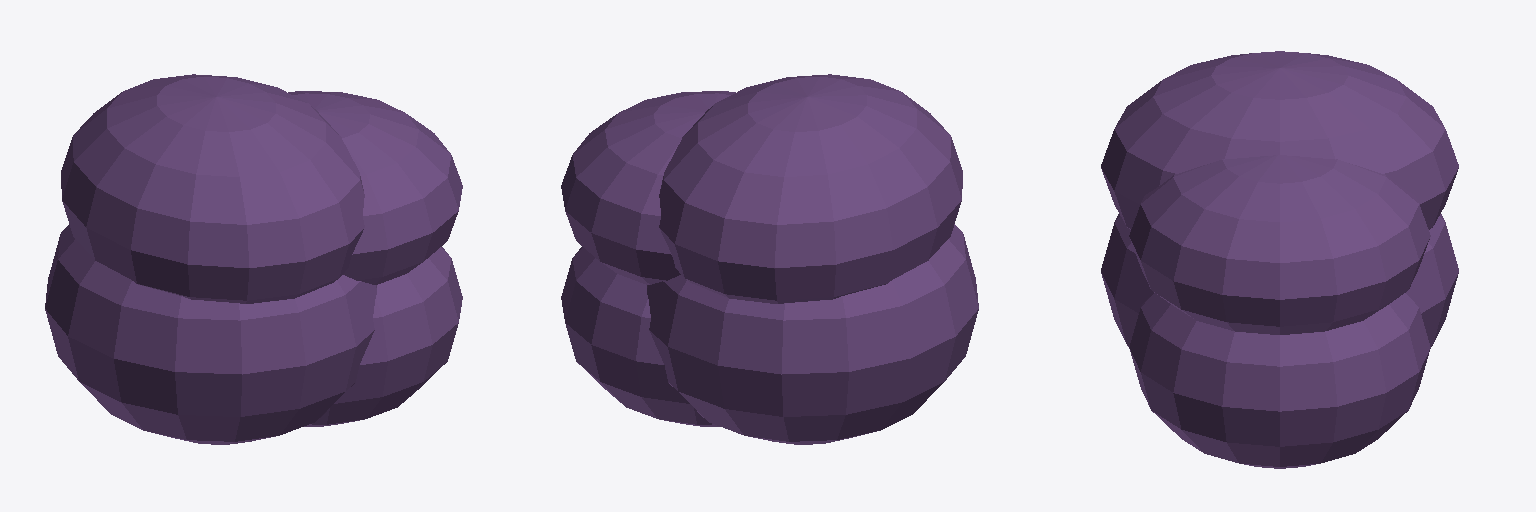
3 views of the same model, side by side, from view 1: azimuth 30°, elevation 25°; view 2: azimuth 150°, elevation 25°; view 3: azimuth 270°, elevation 25° (orthographic).
Visible parts, largest first — view 1: 球.002; view 2: 球.002; view 3: 球.002.
Part boxes in pixels (bbox=[...]): 球.002: bbox=[45, 74, 462, 444]; 球.002: bbox=[561, 74, 978, 444]; 球.002: bbox=[1101, 51, 1458, 468].
Bounding box in the file's own units: 2.42 × 2.08 × 2.
Materials: 1 (1 with a texture image).